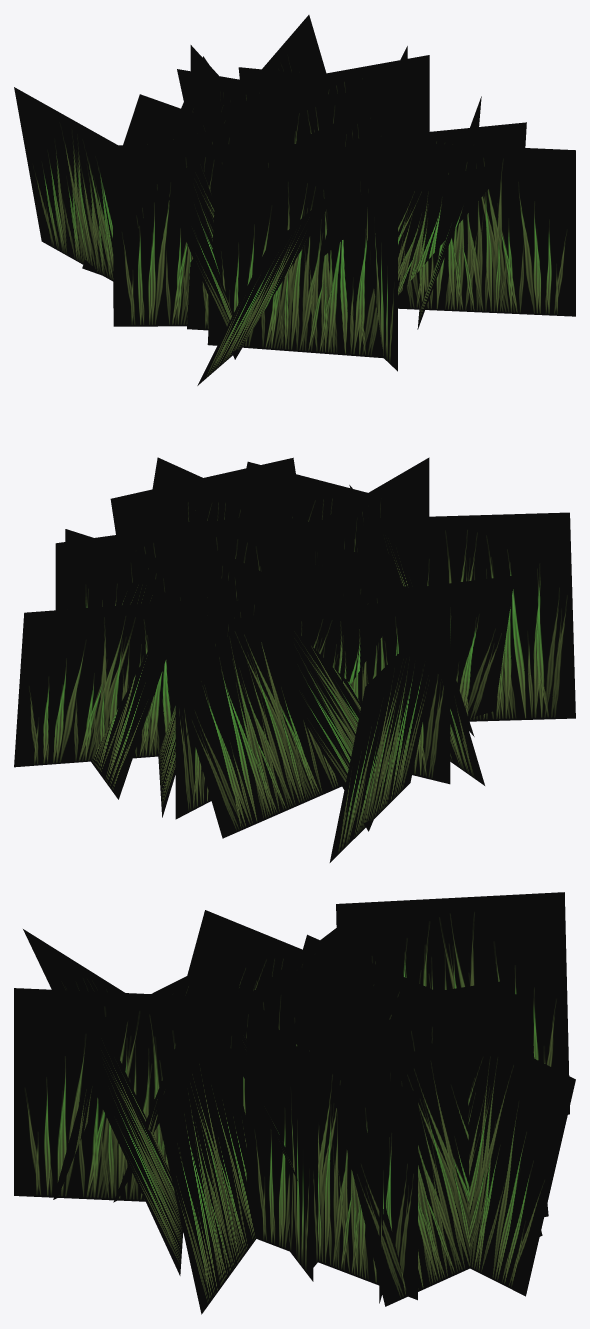
Rendered from Grass_01.FBX.
The picture shows the model from 3 angles, top to bottom: view 1: azimuth 30°, elevation 25°; view 2: azimuth 150°, elevation 25°; view 3: azimuth 270°, elevation 25°; orthographic projection. The views are drawn at different scales.
Visible parts, largest first — view 1: Grass_01; view 2: Grass_01; view 3: Grass_01.
Part boxes in pixels (left/top/right/bottom): Grass_01: left=14, top=15, right=575, bottom=385; Grass_01: left=14, top=457, right=575, bottom=862; Grass_01: left=14, top=892, right=575, bottom=1314.
Bounding box in the file's own units: 2.17 × 0.981 × 2.34.
Materials: 1 (1 with a texture image).
